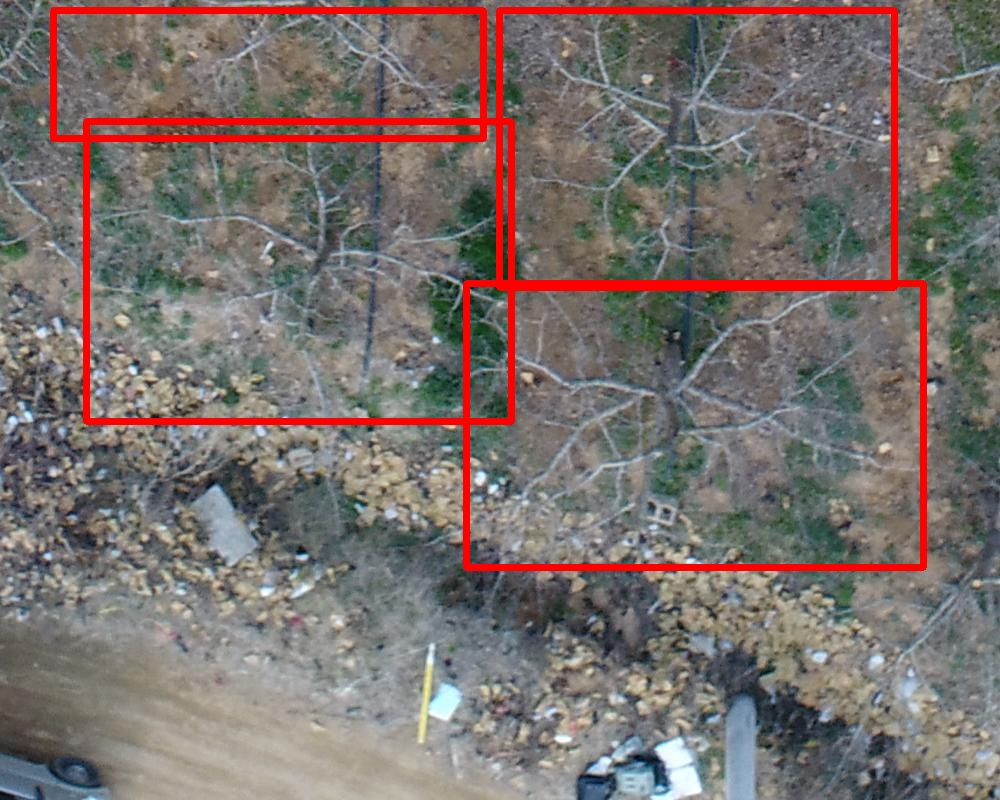apple: (466, 283, 923, 567), (86, 121, 511, 421), (499, 10, 894, 287), (53, 10, 483, 138)
